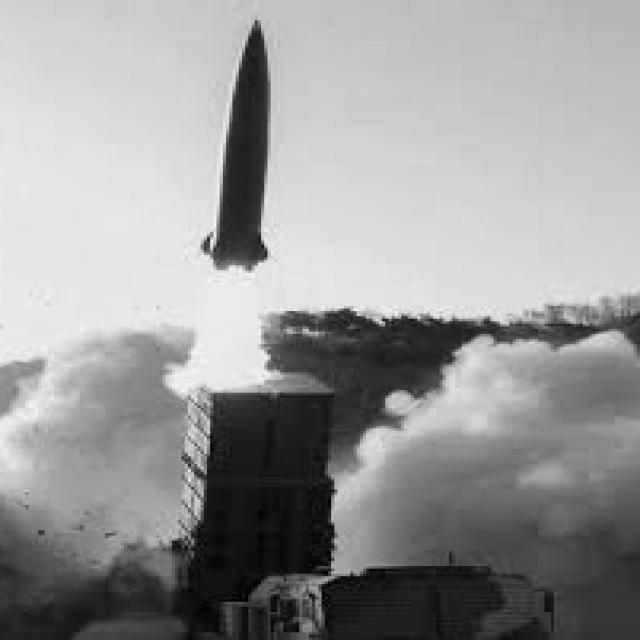Missile: (192, 11, 291, 273)
